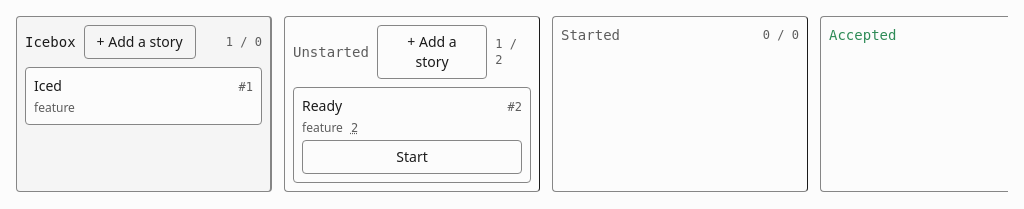
Scenario: BoardPage › gates an optimistically moved card by the column it now sits in
Click the button "Start". click: (412, 157)
box: [302, 140, 522, 174]
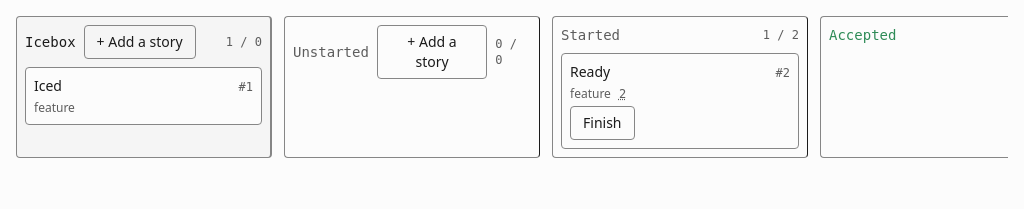
Check: the button "Finish" is shown, box [570, 106, 634, 140]
